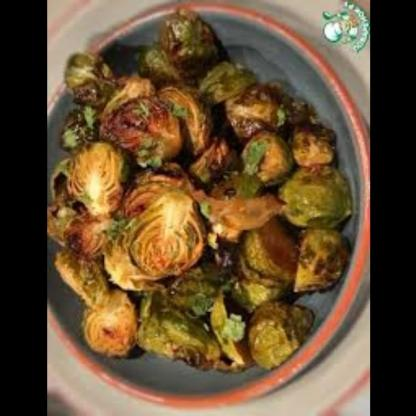brus capusta: (45, 6, 350, 388)
